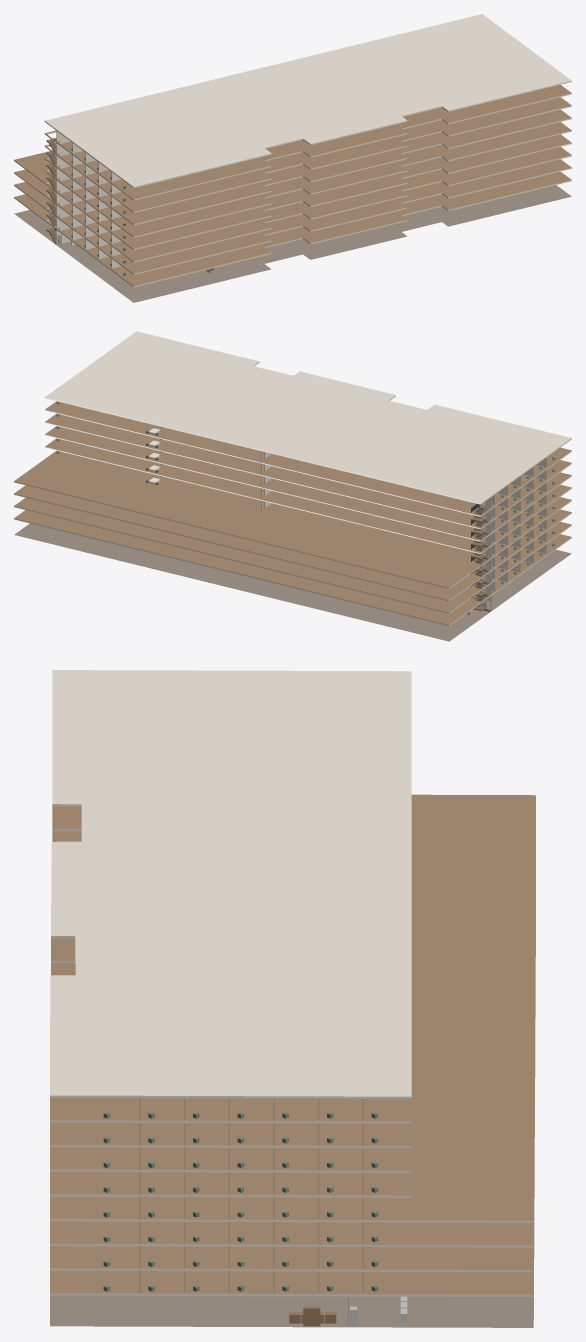
The model's file is interior.glb.
3 renders of one model, top to bottom at view 1: azimuth 30°, elevation 25°; view 2: azimuth 150°, elevation 25°; view 3: azimuth 270°, elevation 25°, orthographic. The views are drawn at different scales.
Parts seen in each view (by area): view 1: slabs, partitions, stair; view 2: slabs, partitions, stair; view 3: slabs, partitions, coarse-s0.
Part boxes in pixels (<box>): slabs: <box>14,14,571,302</box>; partitions: <box>56,131,345,273</box>; stair: <box>46,138,60,243</box>; slabs: <box>14,331,571,641</box>; partitions: <box>261,451,546,610</box>; stair: <box>471,504,490,611</box>; slabs: <box>50,670,535,1327</box>; partitions: <box>139,1098,363,1326</box>; coarse-s0: <box>289,1296,407,1326</box>.
Size of the model in its own units: 102 by 25.75 by 49.12.
